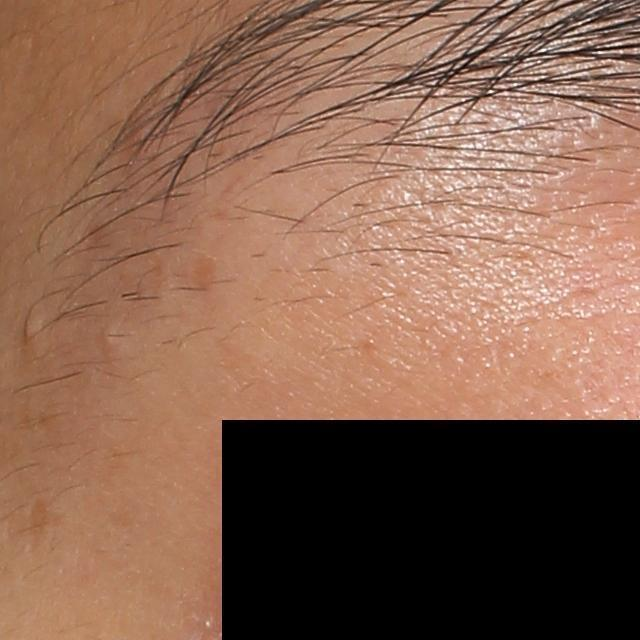comedo: (6, 298, 50, 345), (98, 319, 119, 349)
